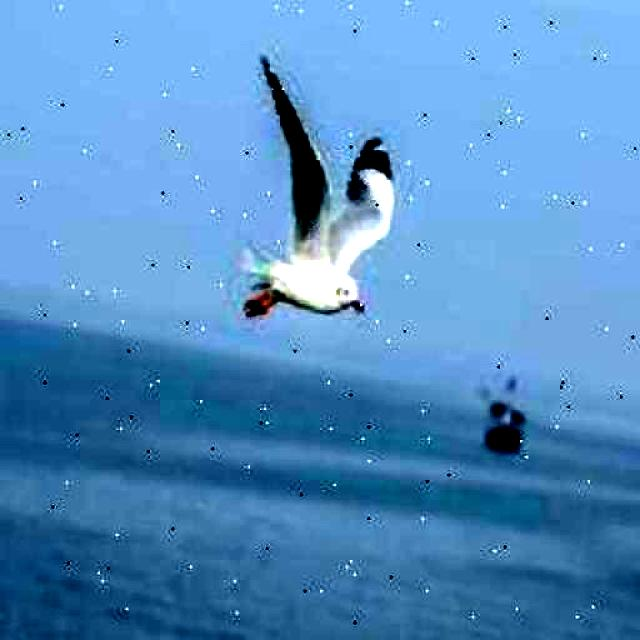airplane: (224, 54, 414, 340)
